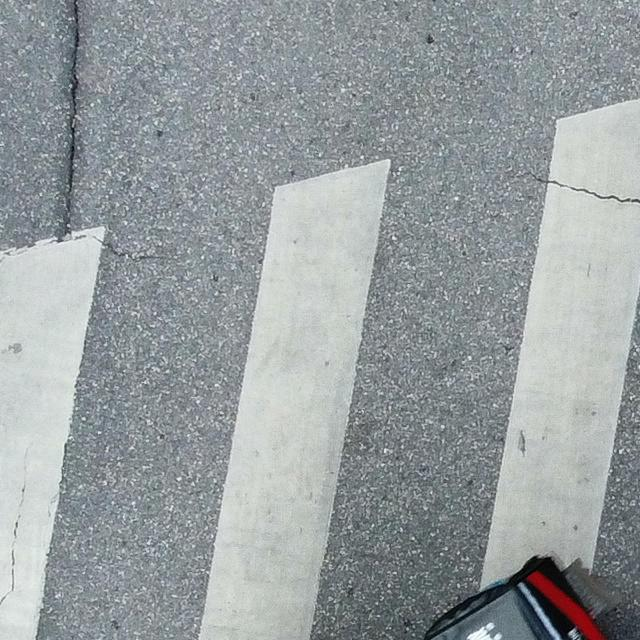LongitudinalCrack: (57, 1, 83, 236)
